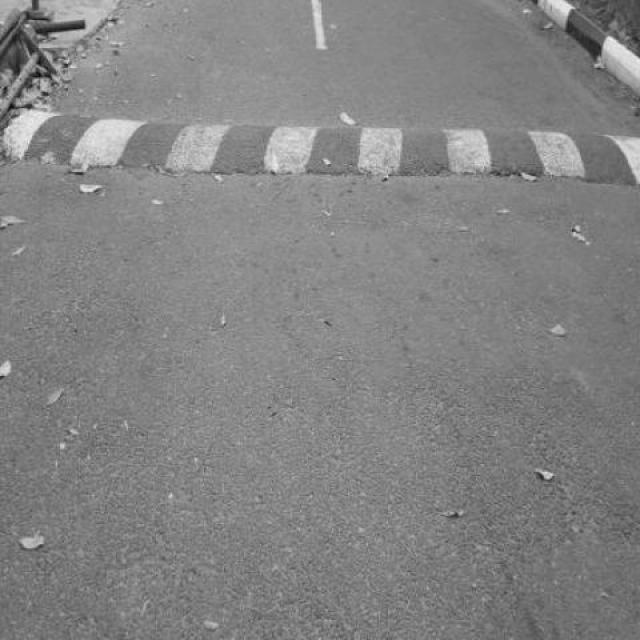Speed Bump: (8, 106, 639, 189)
